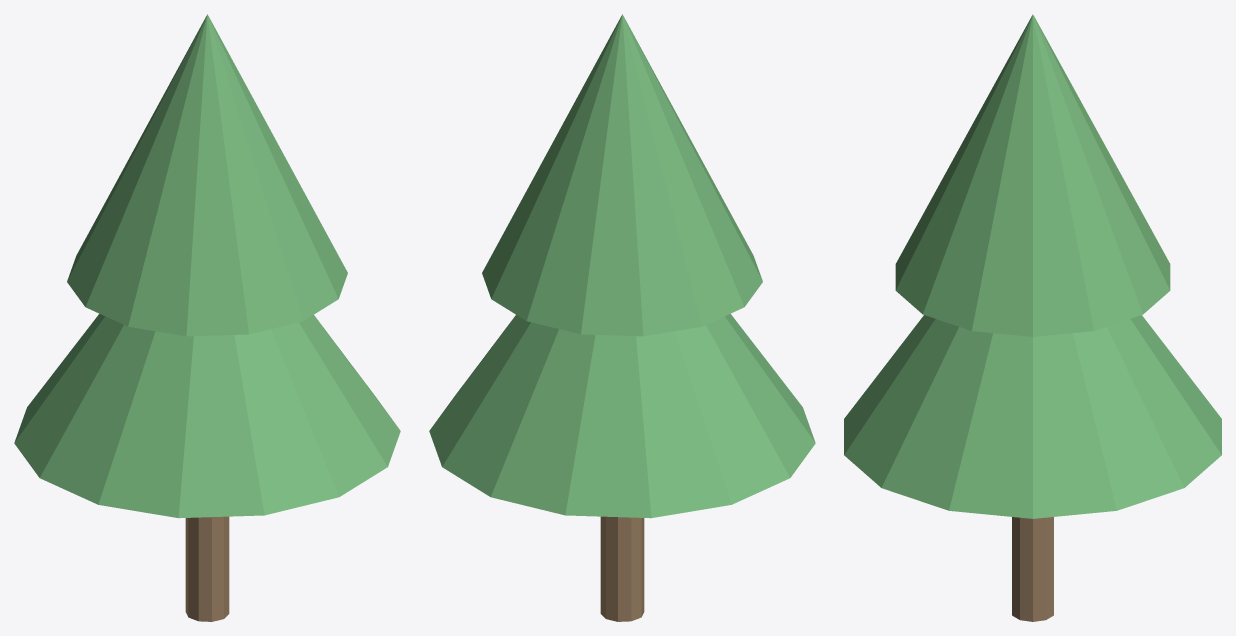
File: tree.glb
3 views of the same model, side by side, from view 1: azimuth 30°, elevation 25°; view 2: azimuth 150°, elevation 25°; view 3: azimuth 270°, elevation 25° (orthographic).
Visible parts, largest first — view 1: Tán dưới, Tán trên, Thân cây; view 2: Tán dưới, Tán trên, Thân cây; view 3: Tán dưới, Tán trên, Thân cây.
Part boxes in pixels (left/top/right/bottom): Tán dưới: left=14, top=314, right=400, bottom=518; Tán trên: left=67, top=14, right=347, bottom=336; Thân cây: left=185, top=516, right=229, bottom=621; Tán dưới: left=429, top=314, right=815, bottom=518; Tán trên: left=482, top=14, right=762, bottom=336; Thân cây: left=600, top=516, right=644, bottom=621; Tán dưới: left=844, top=315, right=1221, bottom=518; Tán trên: left=895, top=14, right=1170, bottom=336; Thân cây: left=1012, top=517, right=1053, bottom=621.
Size of the model in its own units: 4.4 by 7.5 by 4.29.
